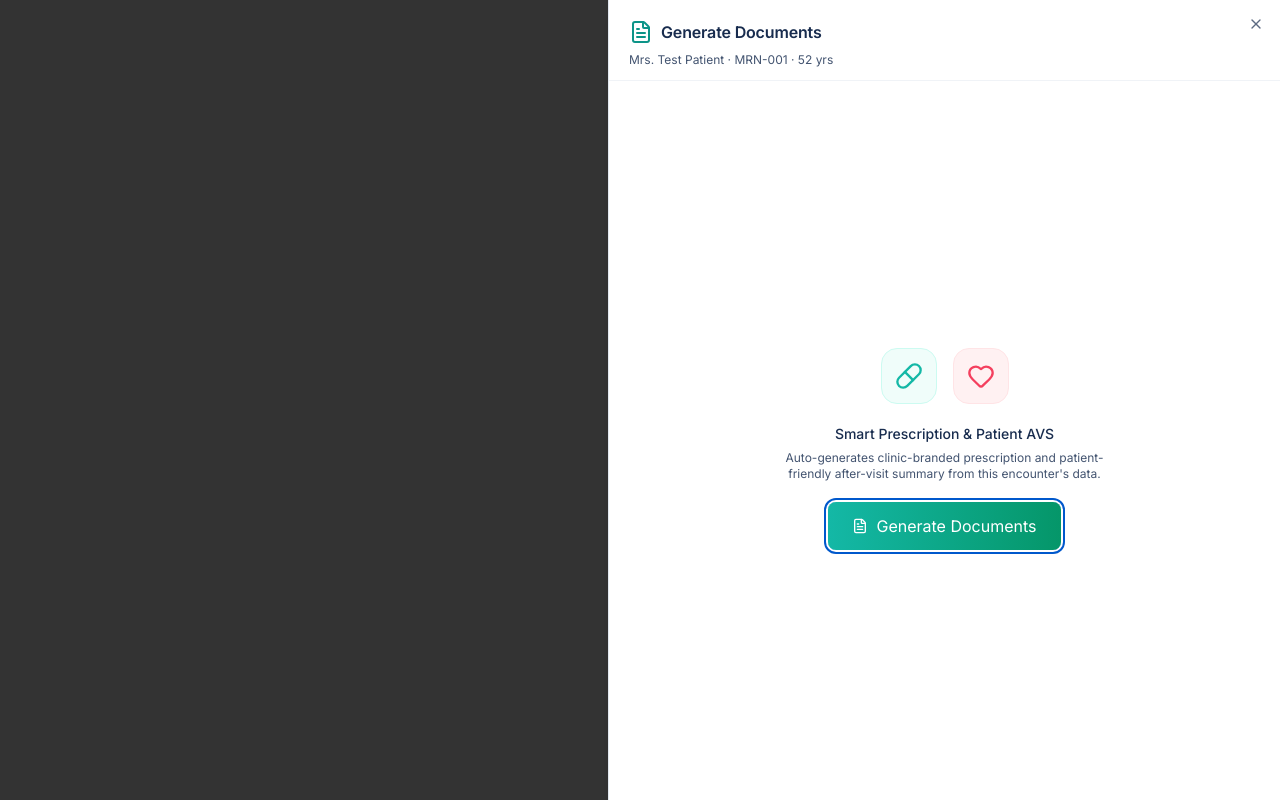
it: DocumentOutputDrawer › Download produces a real .pdf file (no print dialog)
Later steps or results of the test are not shown.
Click the button "Generate Documents". click: coordinates (944, 526)
box: [828,502,1060,550]
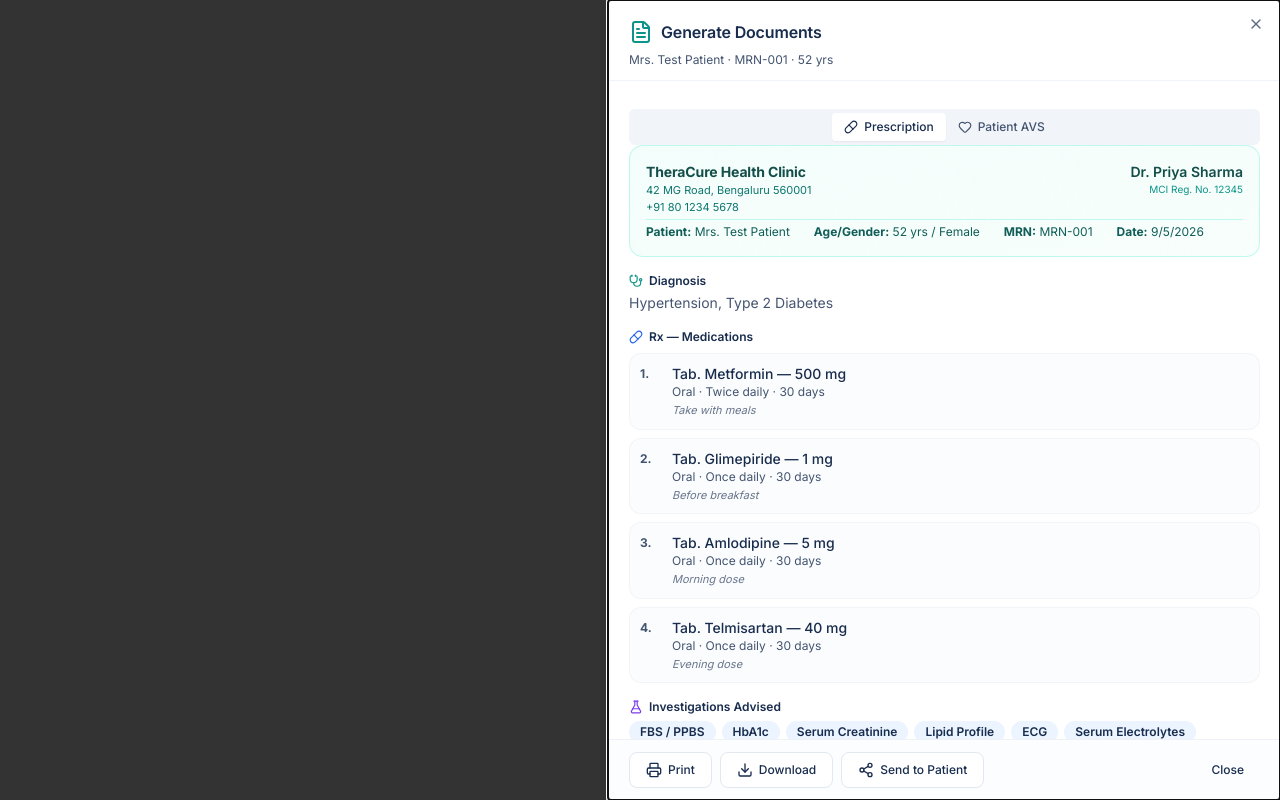
Check: the button "Download" is shown, box [720,752,833,788]
